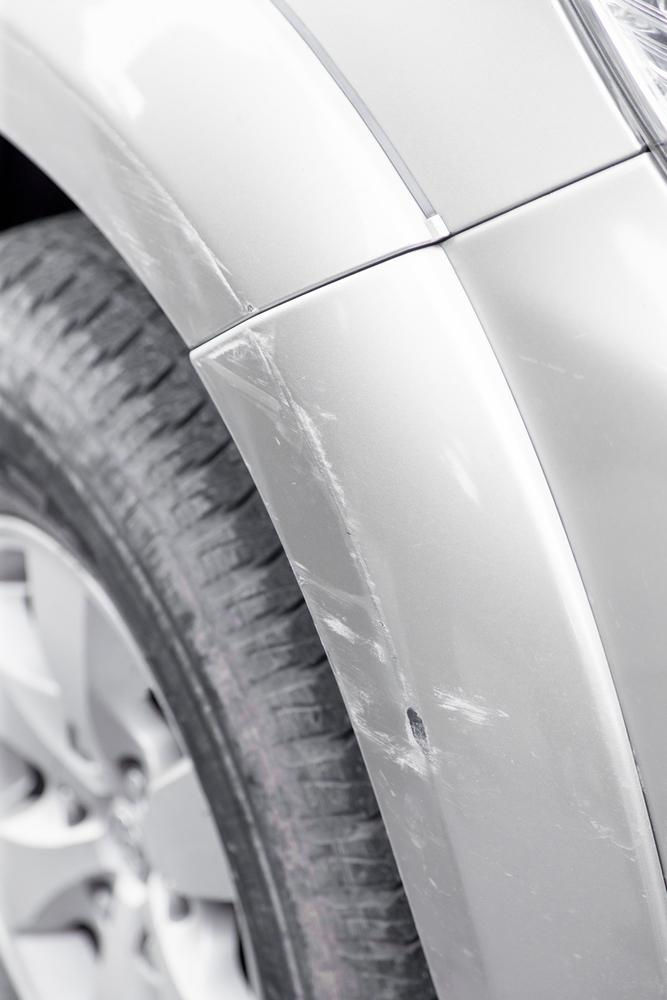scratch: (187, 323, 513, 773), (96, 153, 232, 298)
